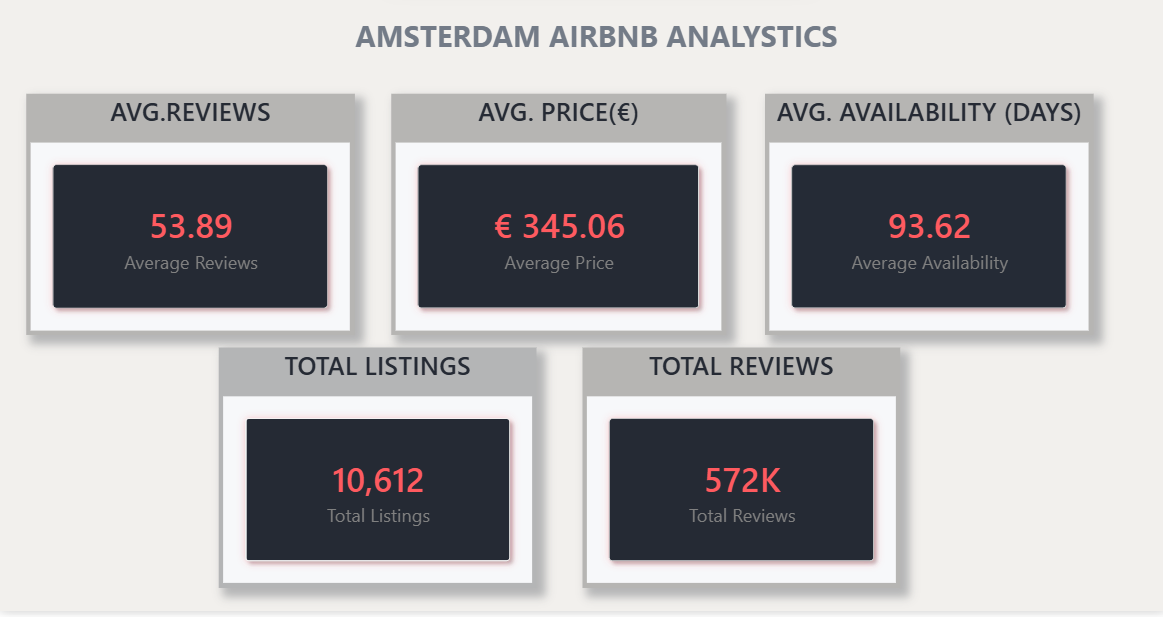

The page's visual inventory and layout, read from the dashboard file:
{"tool":"powerbi","page":{"name":"Page 1","canvas":[1280,720],"ordinal":0},"visuals":[{"type":"cardVisual","title":"AVG. AVAILABILITY (DAYS)","fields":{"Data":["Airbnb_Data.Average Availability"]},"box":[839.8,152.3,360.9,264.8],"z":0},{"type":"textbox","box":[40.9,61.3,1227.2,64.7],"z":3000},{"type":"cardVisual","title":"AVG. PRICE(€)","fields":{"Data":["Airbnb_Data.Average Price"]},"box":[429.5,152.3,367.8,264.8],"z":4000},{"type":"cardVisual","title":"AVG.REVIEWS","fields":{"Data":["Airbnb_Data.Average Reviews"]},"box":[28.8,152.3,360.9,264.8],"z":5000},{"type":"cardVisual","title":"TOTAL REVIEWS","fields":{"Data":["Airbnb_Data.Total Reviews"]},"box":[639.5,430.9,349,264],"z":6000},{"type":"cardVisual","title":"TOTAL LISTINGS","fields":{"Data":["Airbnb_Data.TOTAL LISTINGS"]},"box":[240.1,430.9,349,264],"z":7000}]}

Visuals, with their boxes on the page's 1280x720 design canvas (x1, y1, x2, y2). These are canvas units, not pixel positions in the 1163x617 screenshot, which may show the page scaled, cropped or inside an application window:
"AVG. AVAILABILITY (DAYS)" cardVisual: box(840, 152, 1201, 417)
textbox: box(41, 61, 1268, 126)
"AVG. PRICE(€)" cardVisual: box(430, 152, 797, 417)
"AVG.REVIEWS" cardVisual: box(29, 152, 390, 417)
"TOTAL REVIEWS" cardVisual: box(640, 431, 988, 695)
"TOTAL LISTINGS" cardVisual: box(240, 431, 589, 695)
